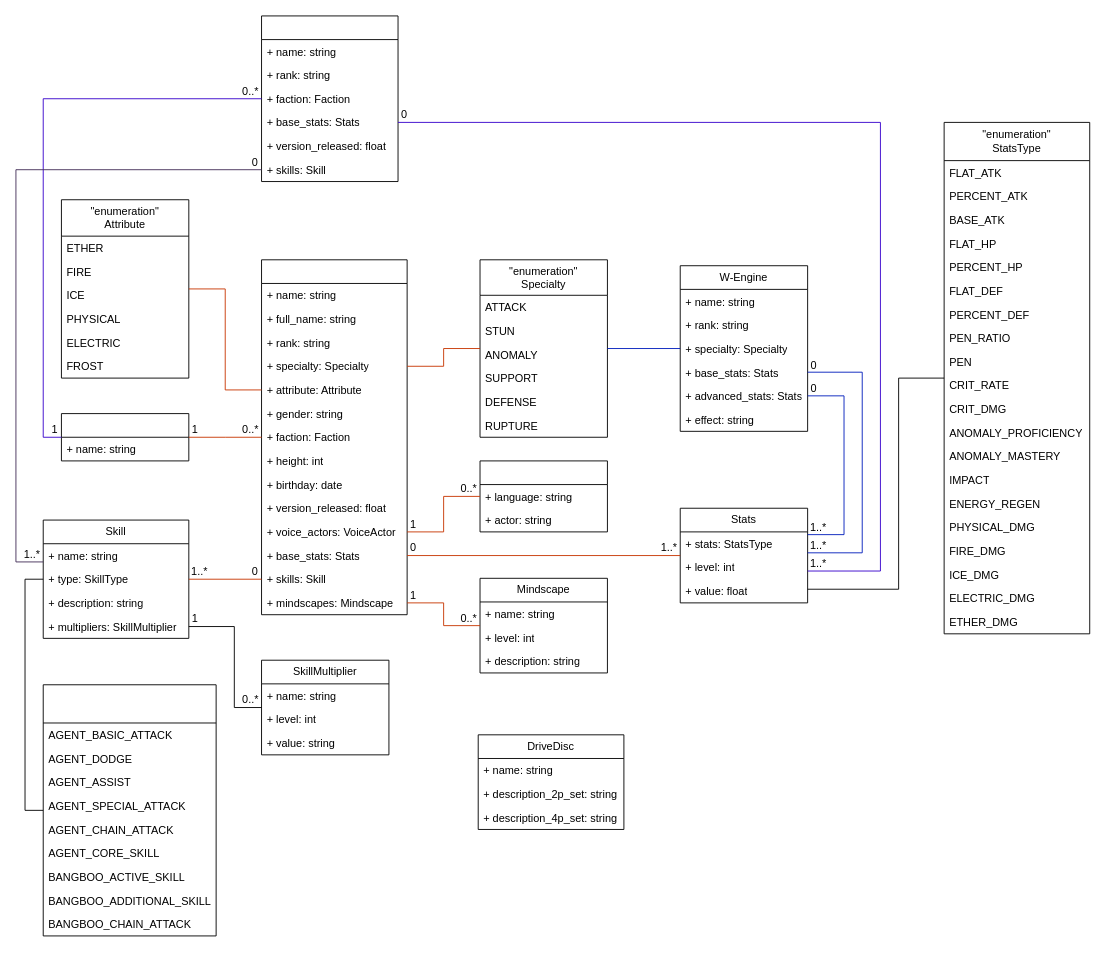
Image size: 1106x955. Some labels were removed from this diagram. The shapes that lost their labels are listed below. From the top down, each one's box as (x1, y1, x2, y2) in pixels, then its label:
(261, 15, 398, 182): Bangboo
(61, 413, 189, 461): Faction
(261, 259, 407, 615): Agent
(479, 460, 607, 532): VoiceActor
(42, 684, 216, 936): "enumeration" SkillType
